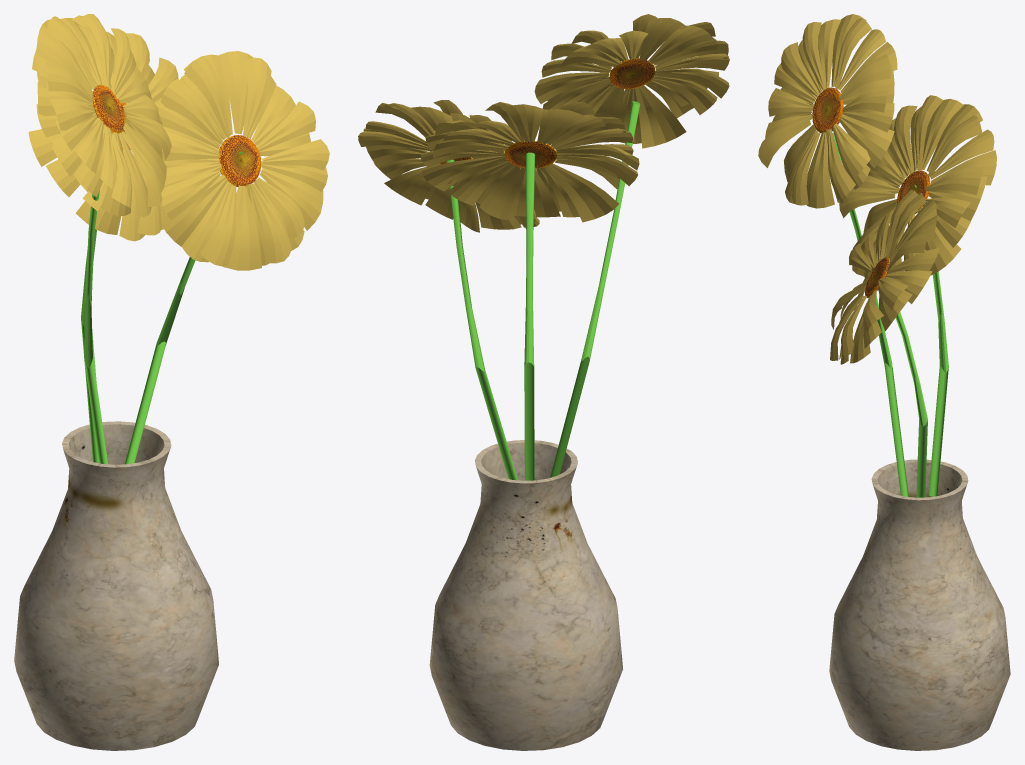
File: goudsbloem.glb
The picture shows the model from 3 angles, left to right: view 1: azimuth 30°, elevation 25°; view 2: azimuth 150°, elevation 25°; view 3: azimuth 270°, elevation 25°; orthographic projection. The views are drawn at different scales.
Parts seen in each view (by area): view 1: Object_4, Object_3, Object_5, Object_2; view 2: Object_3, Object_4, Object_5, Object_2; view 3: Object_4, Object_3, Object_5, Object_2.
Boxes of the visible parts, x1,y1,x2,y2 form: Object_4: [28, 14, 329, 270]; Object_3: [14, 421, 218, 750]; Object_5: [81, 152, 242, 464]; Object_2: [92, 85, 261, 186]; Object_3: [429, 440, 622, 750]; Object_4: [358, 14, 729, 232]; Object_5: [446, 101, 640, 480]; Object_2: [439, 58, 655, 168]; Object_4: [758, 14, 996, 364]; Object_3: [829, 459, 1010, 750]; Object_5: [832, 133, 948, 497]; Object_2: [812, 87, 930, 298].
Bounding box in the file's own units: 2.9 × 6.38 × 2.21.
Materials: 4 (2 with a texture image).
